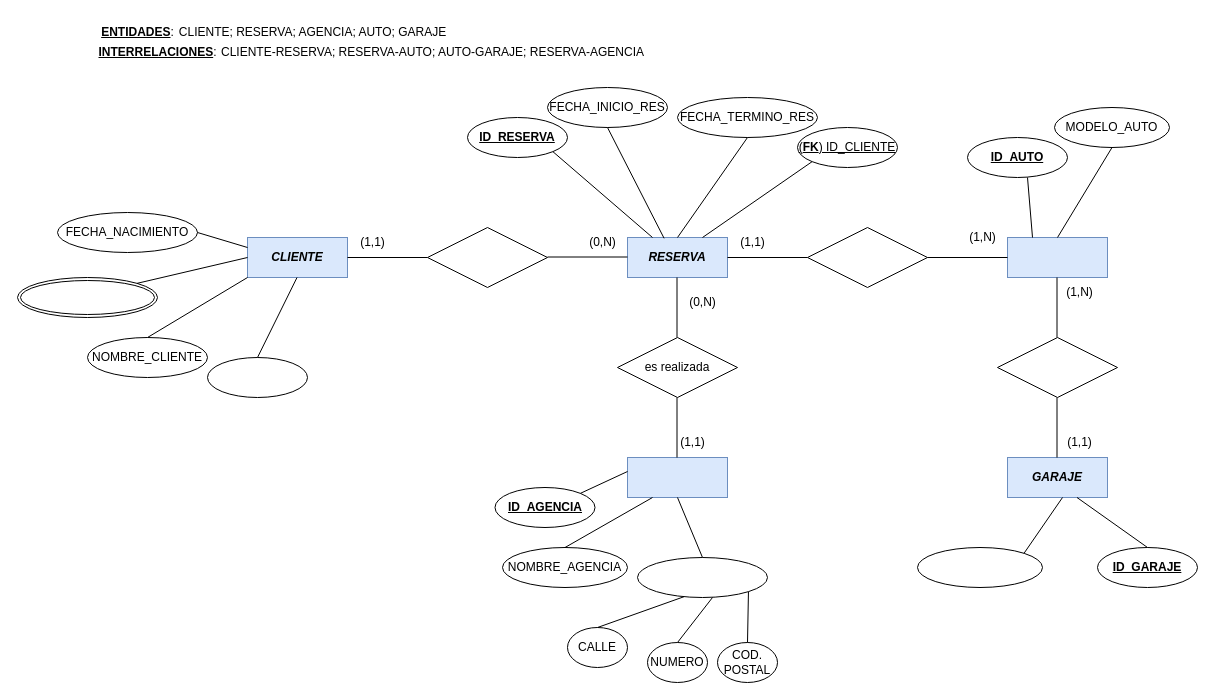
The diagram is 1215 pixels wide and 700 high, and some of its shapes have lost their labels. The shapes that lost their labels are listed below. From the top down, each one's centre as x and y in pixels, then its label:
At point 487,257: "realiza".
At point 867,257: "posee".
At point 1057,257: "AUTO".
At point 87,297: "TELEFONO_CLIENTE".
At point 257,377: "ID_CLIENTE".
At point 1057,367: "pertenece".
At point 677,477: "AGENCIA".
At point 702,577: "DIRECCION_AGENCIA".
At point 979,567: "UBICACION_GARAJE".
